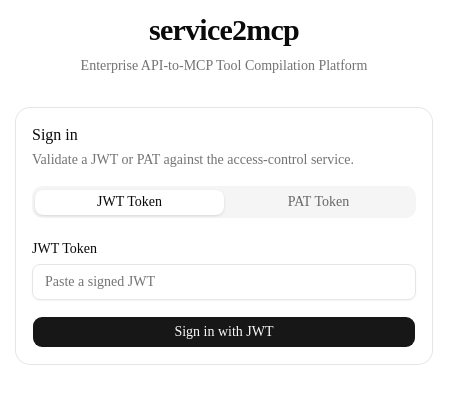
Test: LoginPage › shows error message on failed JWT login
The width and height of the screenshot is (450, 418).
In the password field labelled "JWT Token": point(224, 282) x1=32 y1=264 x2=416 y2=300, type "bad-token"
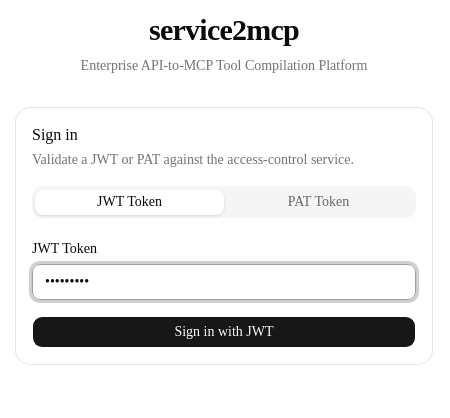
Click the button "Sign in with JWT": point(224, 332) x1=32 y1=316 x2=416 y2=348
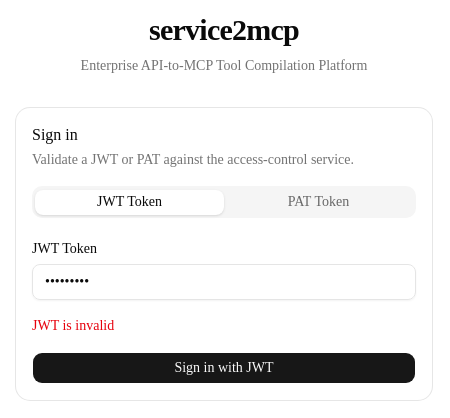
expect the text "JWT is invalid" is shown: met, box x1=32 y1=318 x2=114 y2=333
